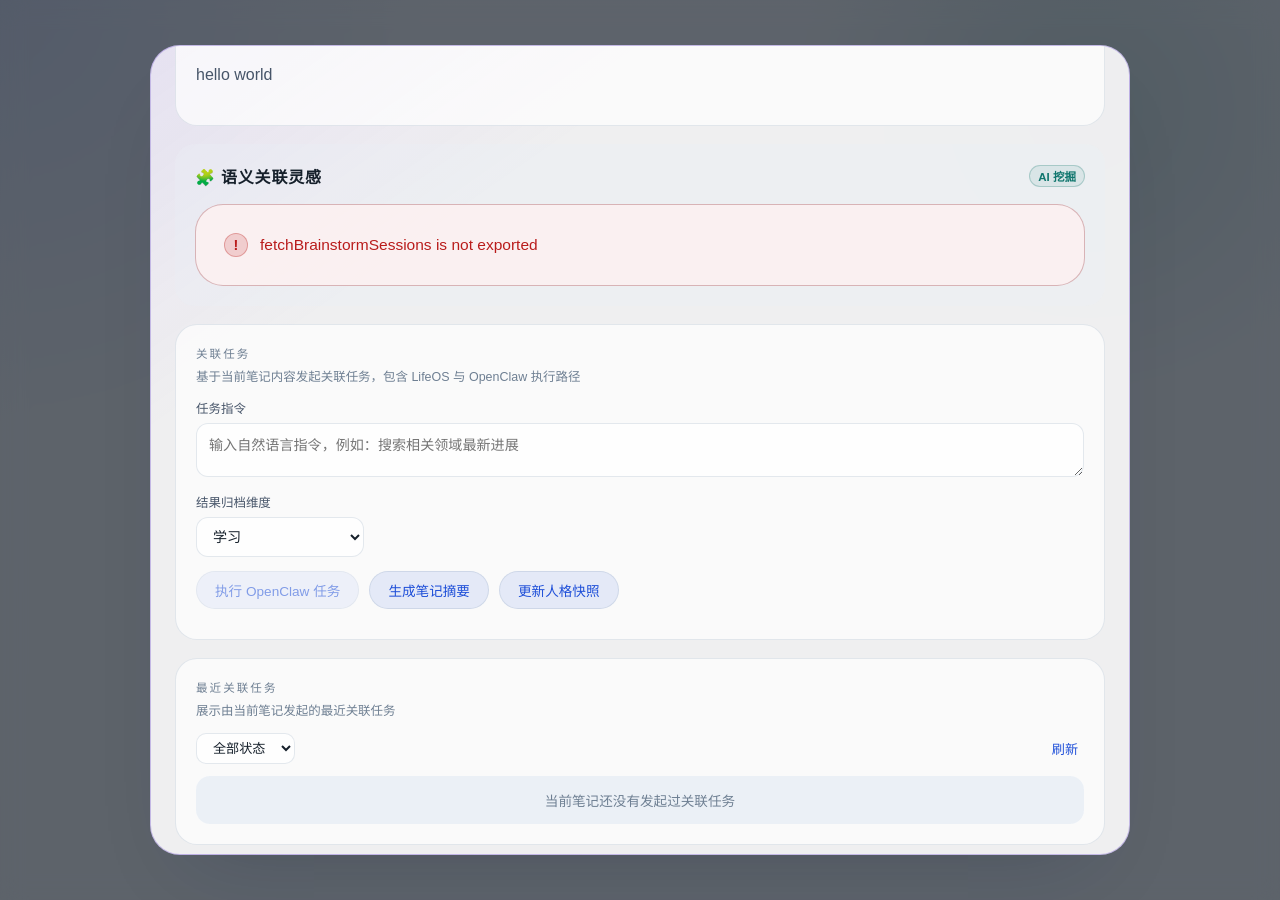
Test: NoteDetail › shows neutral related-task error copy when creating an OpenClaw task fails
The width and height of the screenshot is (1280, 900).
(page scrolled)
Type "search latest progress" into the text box with placeholder "输入自然语言指令，例如：搜索相关领域最新进展" at [640, 450], box [196,423,1084,477]
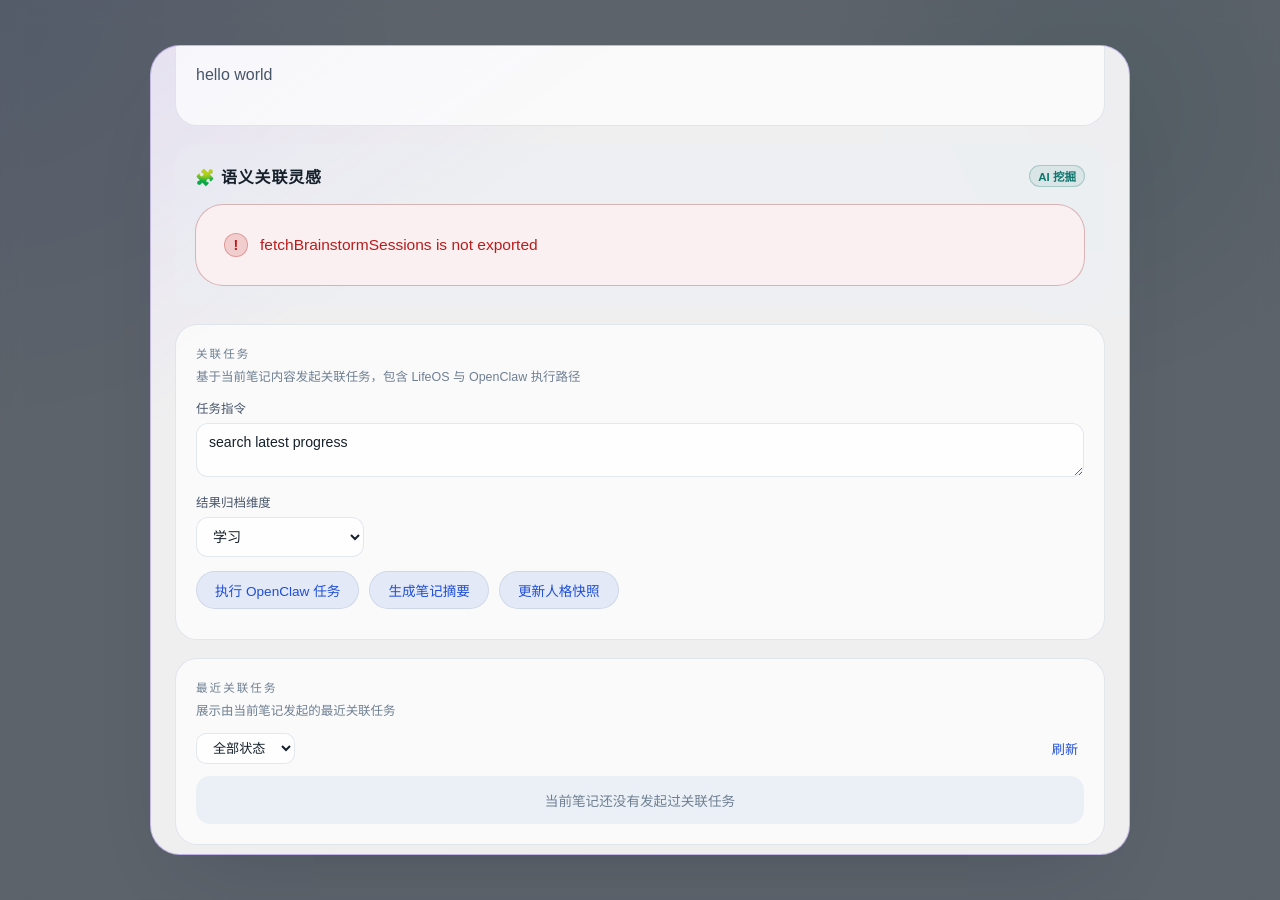
Click the button "执行 OpenClaw 任务" at [278, 590], box [196,571,359,609]
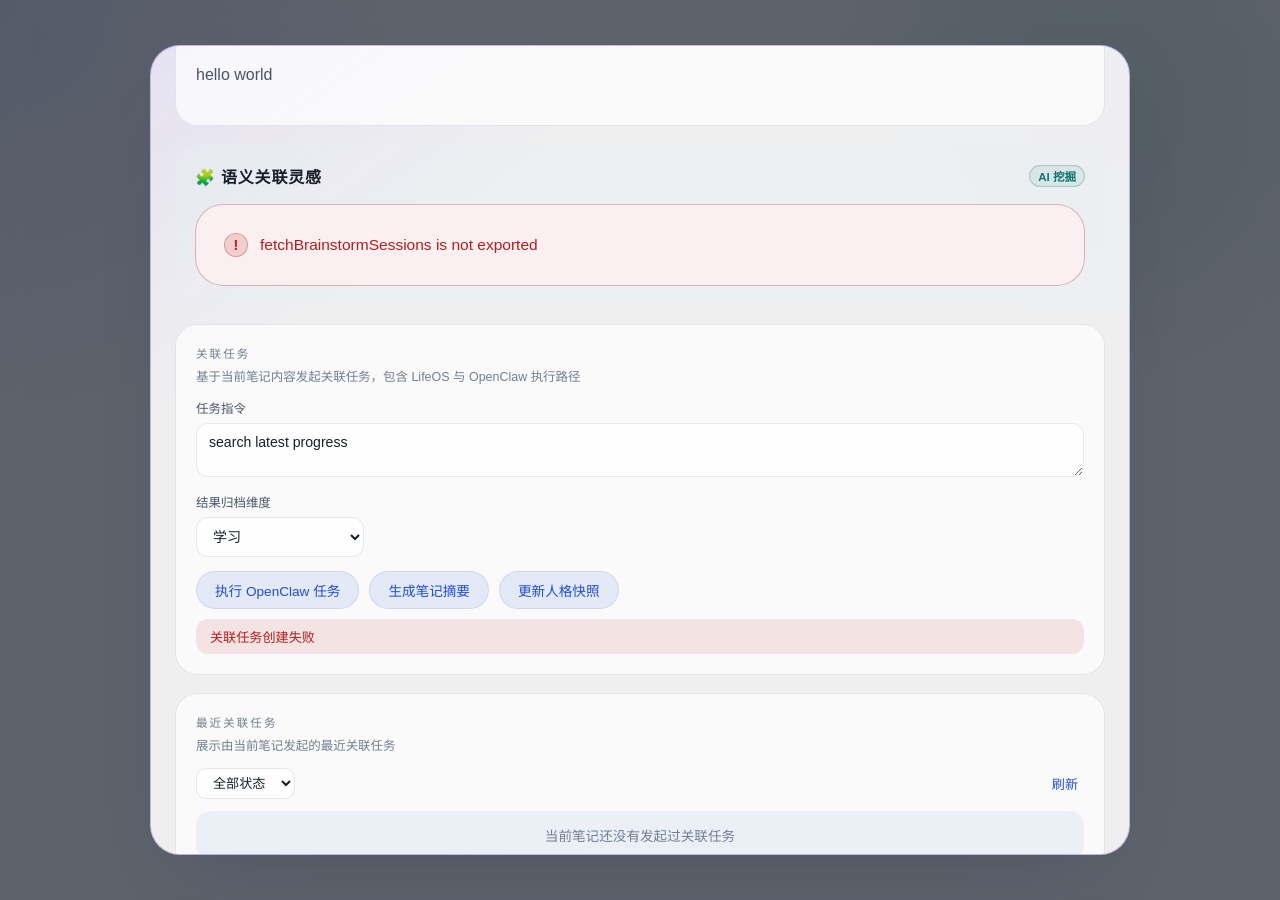
Check: the text "关联任务创建失败" is shown, box [196,619,1084,654]
